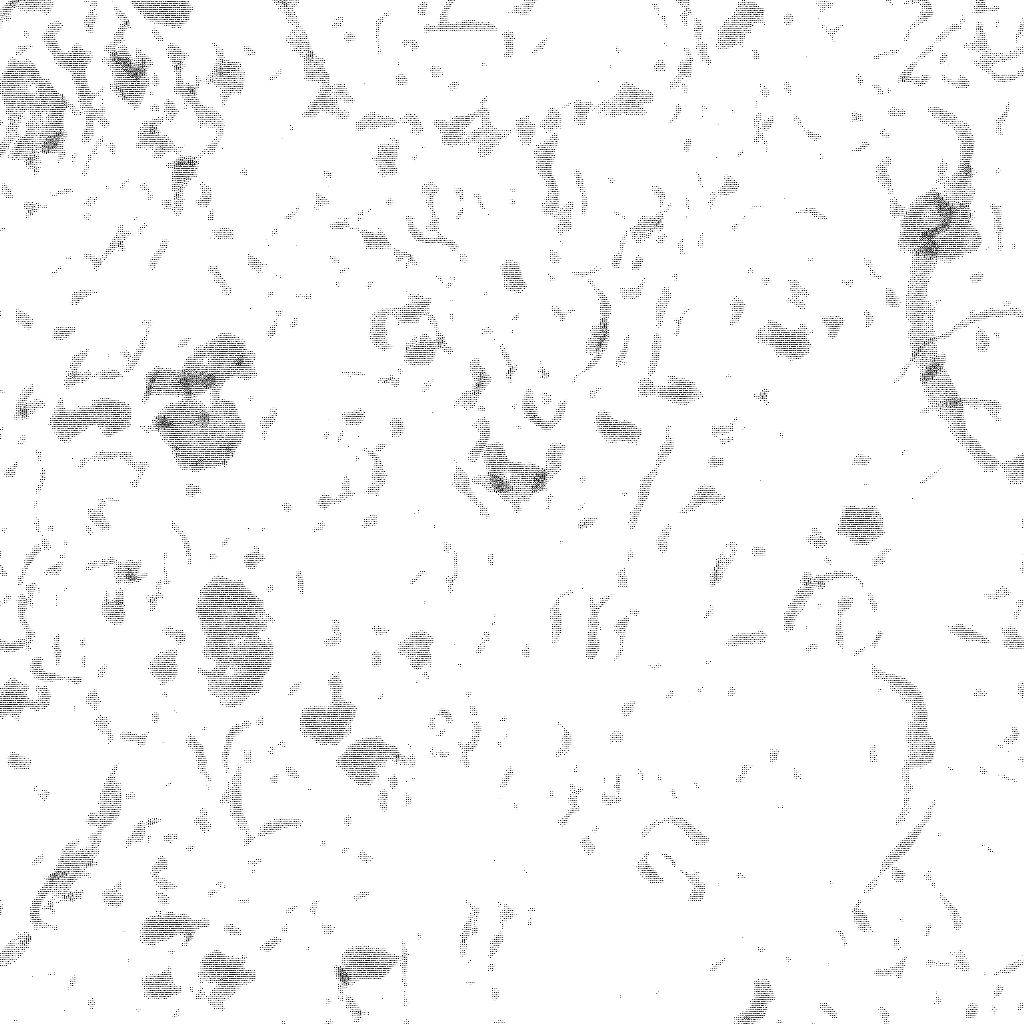axone: (187, 568, 278, 708), (146, 390, 265, 479), (1, 48, 81, 176), (137, 323, 276, 392), (894, 165, 984, 267), (327, 722, 409, 804), (189, 940, 265, 1005), (104, 35, 161, 120), (296, 676, 361, 750), (330, 930, 406, 993), (831, 499, 894, 551)
